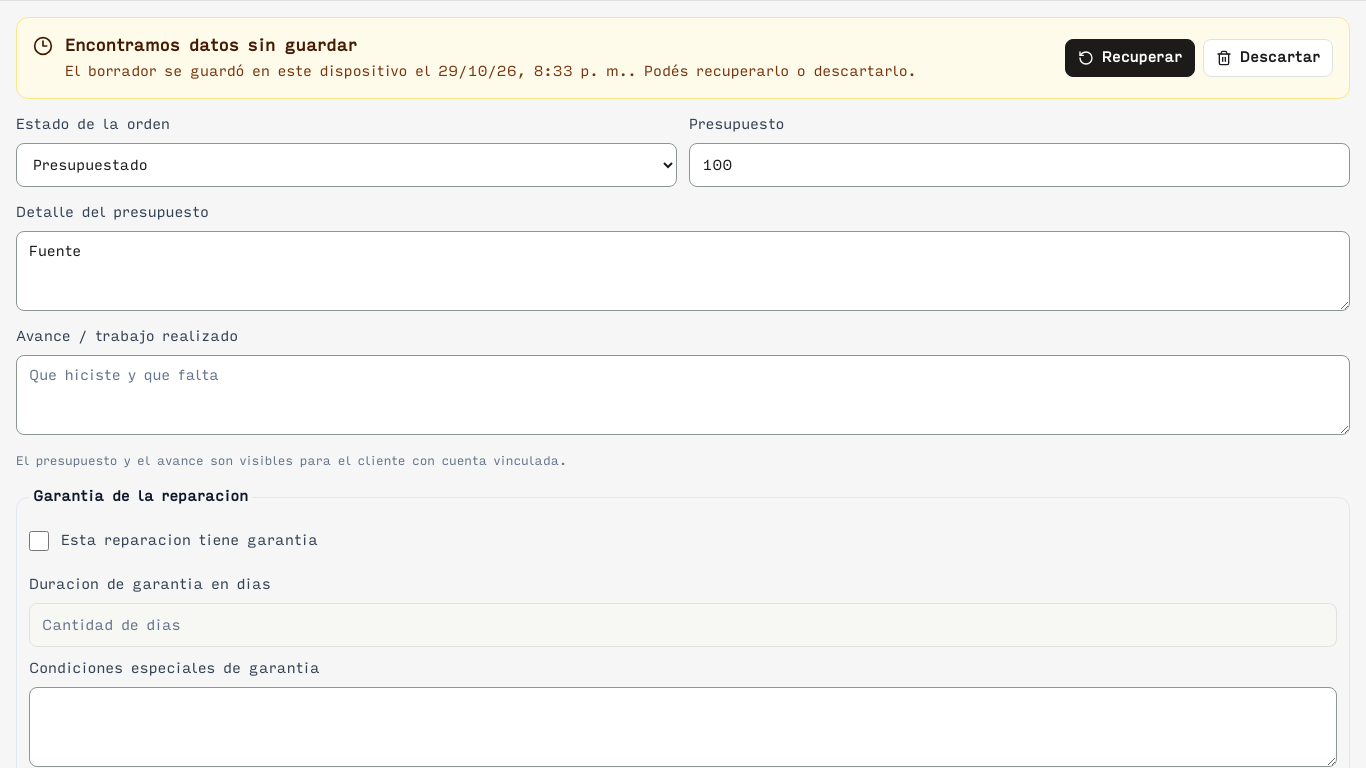
Scenario: editor unico de reparaciones › recupera no presenta fallas sin enviar una aprobacion vieja del borrador
Click the button "Recuperar" at (1130, 58), box [1065,39,1195,77]
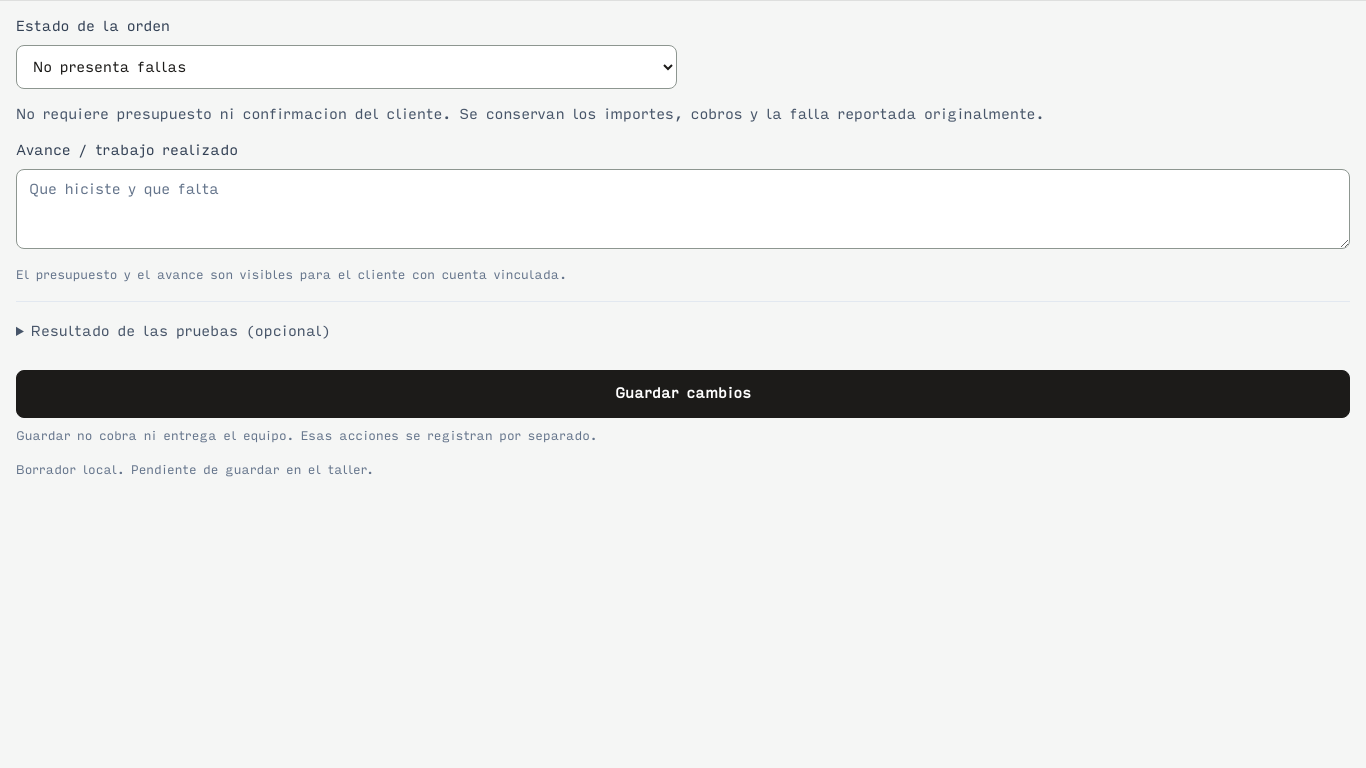
Check: the dropdown labelled "Estado de la orden" shows "No presenta fallas", box [16,45,677,89]
